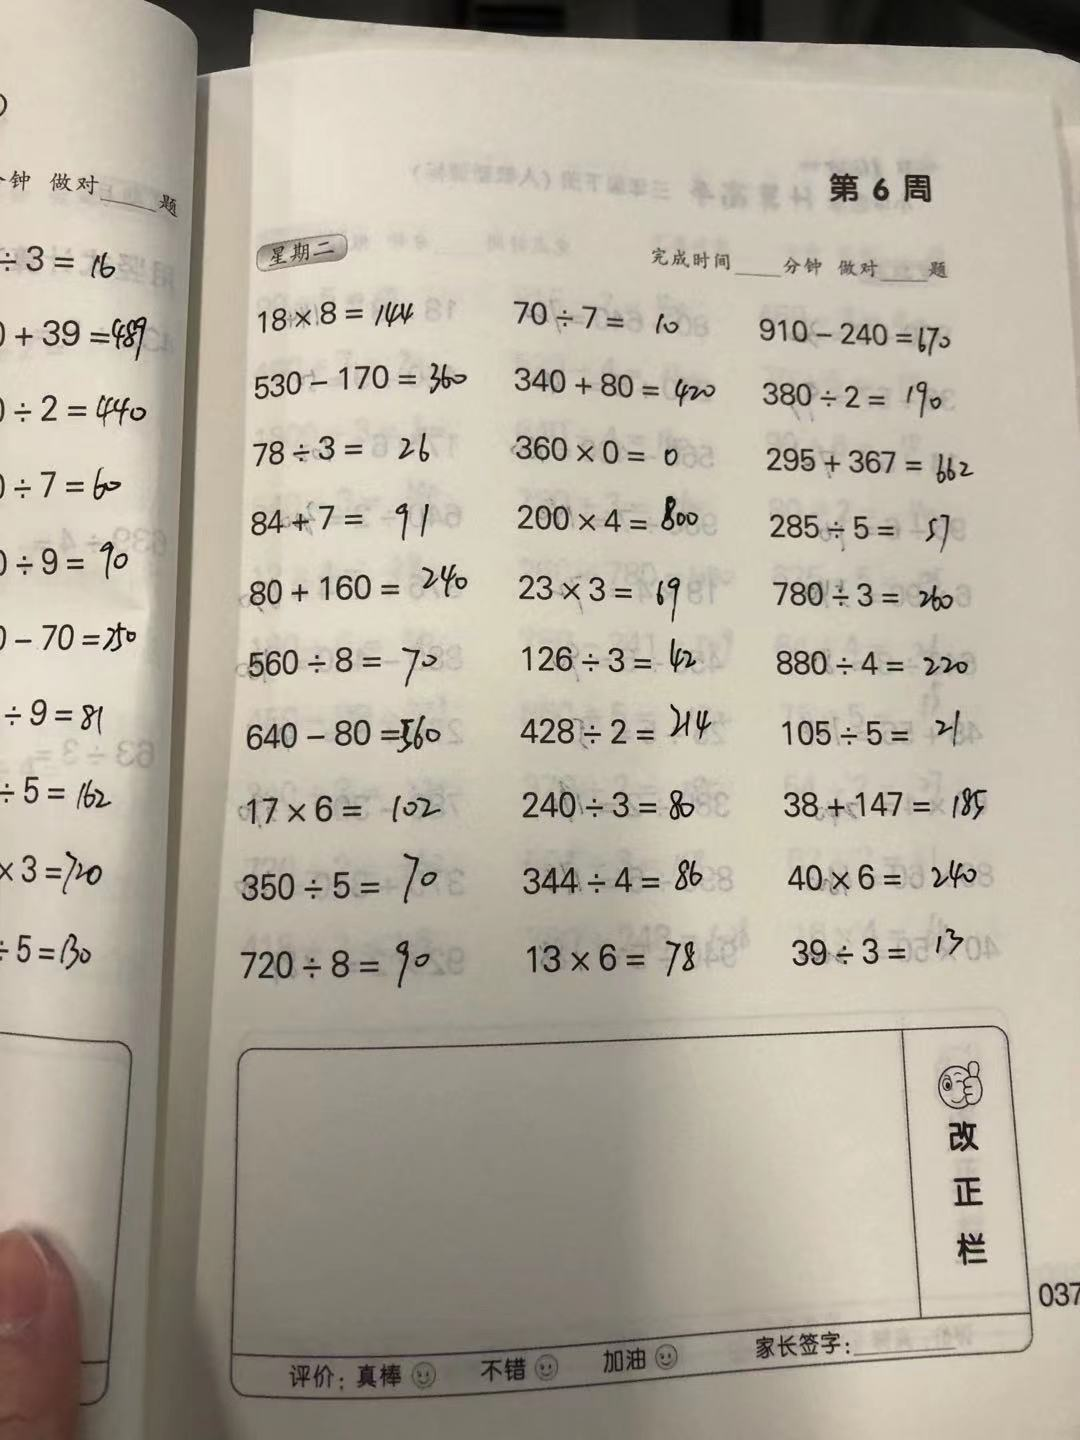equation: (233, 931, 470, 997), (768, 696, 997, 757), (756, 440, 1007, 494), (520, 852, 735, 915), (517, 702, 726, 766), (763, 564, 976, 622), (756, 311, 999, 362), (750, 371, 1003, 420), (235, 857, 455, 912), (507, 359, 731, 410), (515, 926, 723, 980), (782, 780, 1013, 828), (235, 564, 488, 607), (238, 490, 455, 540), (777, 856, 1033, 898), (786, 924, 981, 979), (244, 421, 453, 469), (245, 363, 489, 404), (511, 425, 699, 477), (241, 291, 457, 336), (509, 562, 706, 610), (520, 630, 715, 678), (242, 709, 452, 753), (234, 788, 461, 829), (242, 638, 456, 681), (512, 295, 704, 341), (518, 783, 709, 830), (762, 510, 972, 550), (520, 495, 718, 536), (763, 644, 980, 680)
